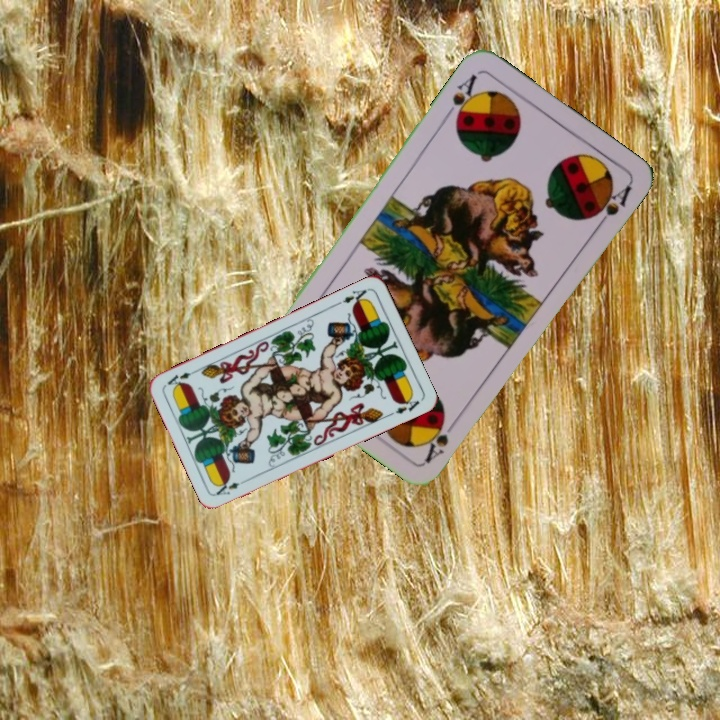EA: (212, 475, 251, 498), (339, 285, 371, 309)
SA: (421, 413, 462, 465), (448, 70, 481, 127)
